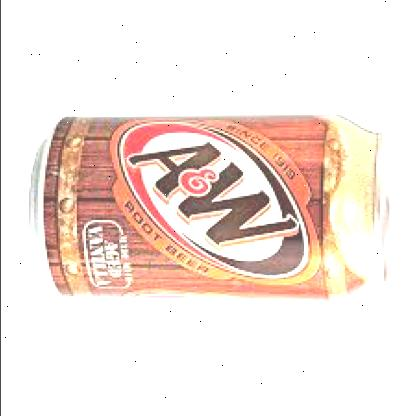Can: (31, 112, 392, 300)
